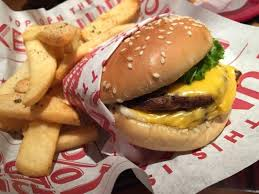hamburger: (91, 14, 238, 154)
